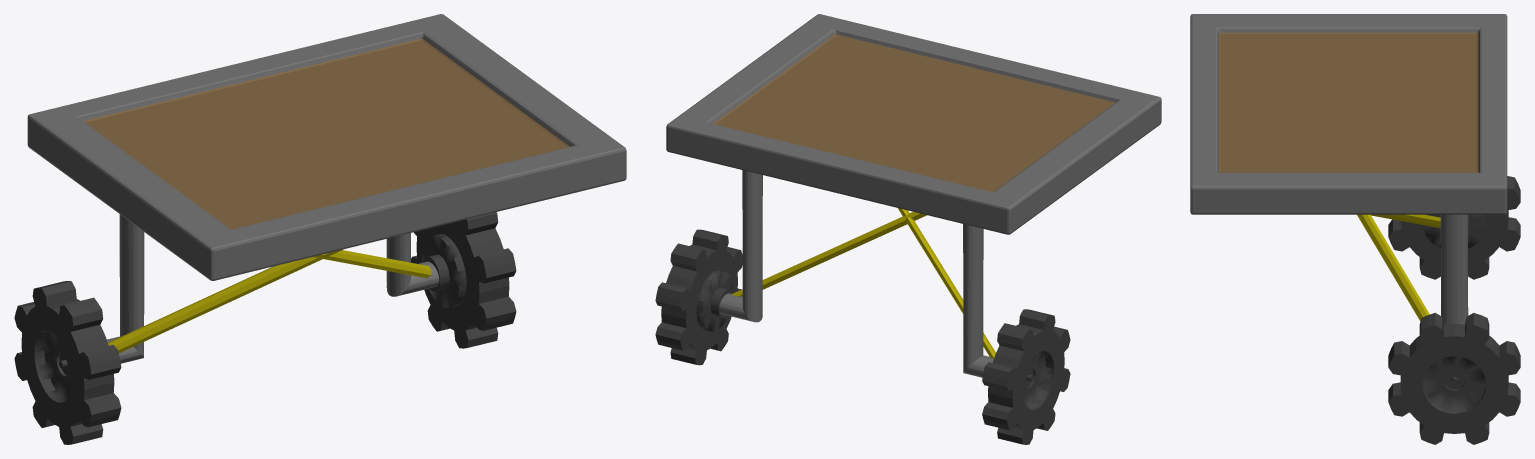
File: LP_GPE_MovingPlatformVerticalFIXED.fbx
The picture shows the model from 3 angles, left to right: view 1: azimuth 30°, elevation 25°; view 2: azimuth 150°, elevation 25°; view 3: azimuth 270°, elevation 25°; orthographic projection. The views are drawn at different scales.
Visible parts, largest first — view 1: Platform, Gear, GearJunction, Cable; view 2: Platform, Gear, GearJunction, Cable; view 3: Platform, Gear, GearJunction, Cable.
Part boxes in pixels (x1,y1,x2,y2): Platform: (27, 14, 626, 280); Gear: (14, 212, 516, 444); GearJunction: (107, 214, 439, 363); Cable: (108, 249, 431, 353); Platform: (666, 14, 1161, 234); Gear: (655, 229, 1070, 444); GearJunction: (719, 170, 993, 377); Cable: (731, 208, 995, 358); Platform: (1190, 14, 1507, 214); Gear: (1388, 176, 1520, 444); GearJunction: (1440, 214, 1468, 324); Cable: (1357, 214, 1440, 321).
Size of the model in its own units: 159 by 107 by 125.
